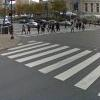Crosswalk: (12, 34, 100, 100)
